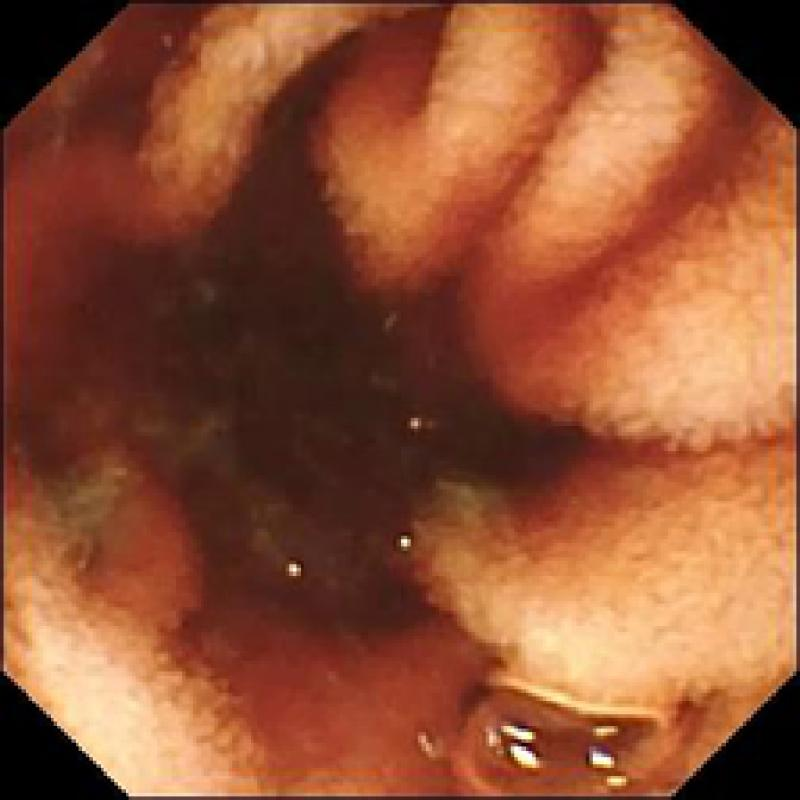bleeding: (0, 14, 782, 796)
